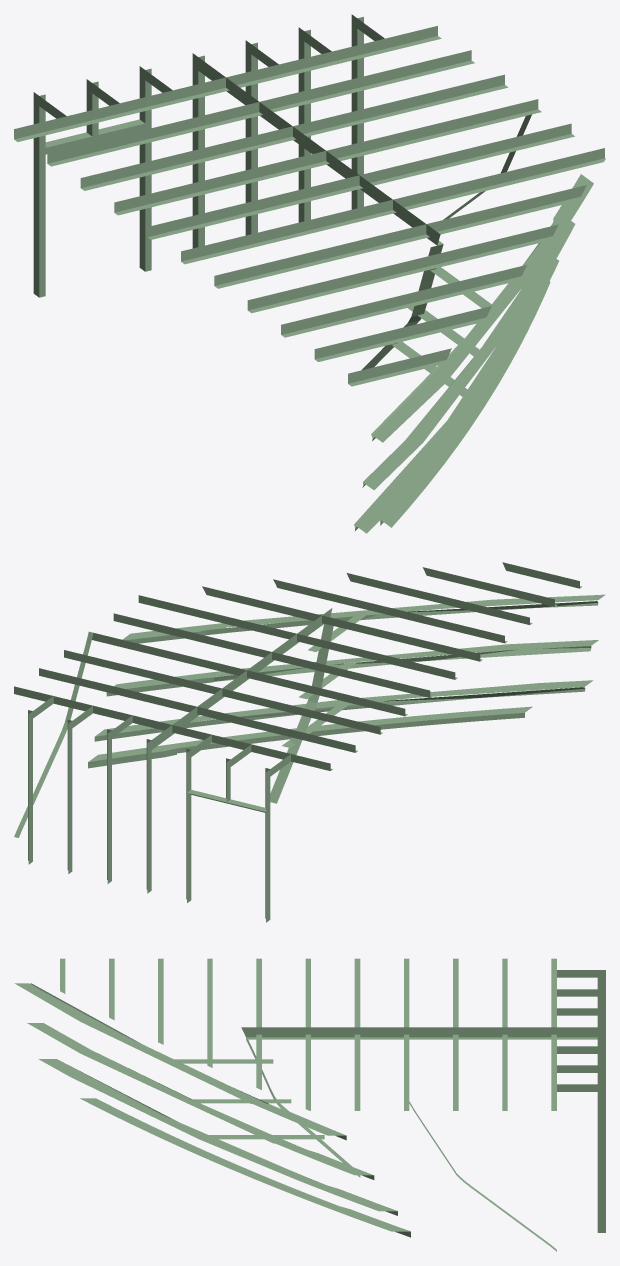
Rendered from FWD_ELECTRICAL_PANEL_ROOM.glb.
3 views of the same model, one above another, from view 1: azimuth 30°, elevation 25°; view 2: azimuth 150°, elevation 25°; view 3: azimuth 270°, elevation 25° (orthographic). The views are drawn at different scales.
Parts seen in each view (by area): view 1: ST_OuterShellxFPTSxL56xWeb_010004-IA_307x100x10x12_NVA32_199, ST_OuterShellxFPTSxL57xWeb_009004-IA_307x100x10x12_NVA32_199, ST_OuterShellxFPTSxL58xWeb_008003-IA_307x100x10x12_NVA32_199, ST_OuterShellxFPTSxL55F1xWeb_004001-IA_307x100x10x12_NVA32_1, ST_TopRoomxFPTSxWeb_002001-IA_152.4x101.2x9.5x9.5_NVA36_2014, ST_TopRoomxFPTSxWeb_016001-IA_152.4x101.2x9.5x9.5_NVA36_2014, ST_TopRoomxFPTSxWeb_017001-IA_152.4x101.2x9.5x9.5_NVA36_2014, ST_TopRoomxFPTSxWeb_018001-IA_152.4x101.2x9.5x9.5_NVA36_2014, ST_TopRoomxFPTSxWeb_020001-IA_152.4x101.2x9.5x9.5_NVA36_2014, ST_TopRoomxFPTSxWeb_021001-IA_152.4x101.2x9.5x9.5_NVA36_2014, ST_TopRoomxFPTSxWeb_022001-IA_152.4x101.2x9.5x9.5_NVA36_2014, ST_TopRoomxFPTSxWeb_019001-IA_152.4x101.2x9.5x9.5_NVA36_2014 (+34 smaller); view 2: ST_OuterShellxFPTSxL56xWeb_010004-IA_307x100x10x12_NVA32_199, ST_OuterShellxFPTSxL57xWeb_009004-IA_307x100x10x12_NVA32_199, ST_OuterShellxFPTSxL57xFLG_008004-IA_307x100x10x12_NVA32_199, ST_OuterShellxFPTSxL58xWeb_008003-IA_307x100x10x12_NVA32_199, ST_OuterShellxFPTSxL56xFLG_010004-IA_307x100x10x12_NVA32_199, ST_OuterShellxFPTSxL55F1xWeb_004001-IA_307x100x10x12_NVA32_1, ST_OuterShellxFPTSxL55F1xFLG_003001-IA_307x100x10x12_NVA32_1, ST_OuterShellxFPTSxL58xFLG_009003-IA_307x100x10x12_NVA32_199, ST_TopRoomxFPTSxWeb_020001-IA_152.4x101.2x9.5x9.5_NVA36_2014, ST_TopRoomxFPTSxWeb_016001-IA_152.4x101.2x9.5x9.5_NVA36_2014, ST_TopRoomxFPTSxWeb_022001-IA_152.4x101.2x9.5x9.5_NVA36_2014, ST_TopRoomxFPTSxWeb_017001-IA_152.4x101.2x9.5x9.5_NVA36_2014 (+33 smaller); view 3: ST_OuterShellxFPTSxL56xWeb_010004-IA_307x100x10x12_NVA32_199, ST_OuterShellxFPTSxL58xWeb_008003-IA_307x100x10x12_NVA32_199, ST_OuterShellxFPTSxL57xWeb_009004-IA_307x100x10x12_NVA32_199, ST_TopRoomxFPTSxWeb_014001-IA_203.2x101.6x14.29x14.29_NVA36_, ST_OuterShellxFPTSxL55F1xWeb_004001-IA_307x100x10x12_NVA32_1, ST_TopRoomxFPTSxWeb_013001-IA_203.2x101.6x14.29x14.29_NVA36_, ST_L09SectionxFPTSxWeb_023002-IA_152.4x101.6x14.29x14.29_NVA, ST_OuterShellxFPTSxL56xWeb_011001-IA_358.5x125x11x13.5_NVA32, ST_OuterShellxFPTSxL55F1xWeb_002001-IA_362x125x10x17_NVA32_1, ST_OuterShellxFPTSxL57xWeb_010001-IA_358x100x10x13_NVA32_199, ST_OuterShellxFPTSxL58xWeb_009001-IA_357x100x10x12_NVA32_199, ST_TopRoomxFPTSxFLG_013001-IA_203.2x101.6x14.29x14.29_NVA36_ (+13 smaller).
Part boxes in pixels (bbox=[...]): ST_OuterShellxFPTSxL56xWeb_010004-IA_307x100x10x12_NVA32_199: bbox=[354, 317, 527, 533]; ST_OuterShellxFPTSxL57xWeb_009004-IA_307x100x10x12_NVA32_199: bbox=[363, 277, 541, 489]; ST_OuterShellxFPTSxL58xWeb_008003-IA_307x100x10x12_NVA32_199: bbox=[372, 238, 557, 442]; ST_OuterShellxFPTSxL55F1xWeb_004001-IA_307x100x10x12_NVA32_1: bbox=[381, 343, 519, 527]; ST_TopRoomxFPTSxWeb_002001-IA_152.4x101.2x9.5x9.5_NVA36_2014: bbox=[47, 102, 259, 163]; ST_TopRoomxFPTSxWeb_016001-IA_152.4x101.2x9.5x9.5_NVA36_2014: bbox=[80, 126, 292, 187]; ST_TopRoomxFPTSxWeb_017001-IA_152.4x101.2x9.5x9.5_NVA36_2014: bbox=[114, 151, 326, 212]; ST_TopRoomxFPTSxWeb_018001-IA_152.4x101.2x9.5x9.5_NVA36_2014: bbox=[147, 175, 359, 236]; ST_TopRoomxFPTSxWeb_020001-IA_152.4x101.2x9.5x9.5_NVA36_2014: bbox=[214, 224, 426, 285]; ST_TopRoomxFPTSxWeb_021001-IA_152.4x101.2x9.5x9.5_NVA36_2014: bbox=[247, 248, 459, 310]; ST_TopRoomxFPTSxWeb_022001-IA_152.4x101.2x9.5x9.5_NVA36_2014: bbox=[281, 273, 493, 334]; ST_TopRoomxFPTSxWeb_019001-IA_152.4x101.2x9.5x9.5_NVA36_2014: bbox=[181, 199, 392, 261]; ST_OuterShellxFPTSxL56xWeb_010004-IA_307x100x10x12_NVA32_199: bbox=[204, 680, 593, 720]; ST_OuterShellxFPTSxL57xWeb_009004-IA_307x100x10x12_NVA32_199: bbox=[214, 640, 598, 676]; ST_OuterShellxFPTSxL57xFLG_008004-IA_307x100x10x12_NVA32_199: bbox=[213, 646, 591, 681]; ST_OuterShellxFPTSxL58xWeb_008003-IA_307x100x10x12_NVA32_199: bbox=[227, 594, 605, 627]; ST_OuterShellxFPTSxL56xFLG_010004-IA_307x100x10x12_NVA32_199: bbox=[203, 687, 585, 725]; ST_OuterShellxFPTSxL55F1xWeb_004001-IA_307x100x10x12_NVA32_1: bbox=[210, 706, 532, 743]; ST_OuterShellxFPTSxL55F1xFLG_003001-IA_307x100x10x12_NVA32_1: bbox=[201, 712, 524, 750]; ST_OuterShellxFPTSxL58xFLG_009003-IA_307x100x10x12_NVA32_199: bbox=[225, 601, 598, 632]; ST_TopRoomxFPTSxWeb_020001-IA_152.4x101.2x9.5x9.5_NVA36_2014: bbox=[322, 615, 480, 661]; ST_TopRoomxFPTSxWeb_016001-IA_152.4x101.2x9.5x9.5_NVA36_2014: bbox=[222, 688, 380, 734]; ST_TopRoomxFPTSxWeb_022001-IA_152.4x101.2x9.5x9.5_NVA36_2014: bbox=[371, 579, 529, 624]; ST_TopRoomxFPTSxWeb_017001-IA_152.4x101.2x9.5x9.5_NVA36_2014: bbox=[247, 670, 405, 716]; ST_OuterShellxFPTSxL56xWeb_010004-IA_307x100x10x12_NVA32_199: bbox=[38, 1059, 310, 1179]; ST_OuterShellxFPTSxL58xWeb_008003-IA_307x100x10x12_NVA32_199: bbox=[14, 983, 266, 1103]; ST_OuterShellxFPTSxL57xWeb_009004-IA_307x100x10x12_NVA32_199: bbox=[27, 1023, 291, 1143]; ST_TopRoomxFPTSxWeb_014001-IA_203.2x101.6x14.29x14.29_NVA36_: bbox=[409, 1027, 597, 1037]; ST_OuterShellxFPTSxL55F1xWeb_004001-IA_307x100x10x12_NVA32_1: bbox=[80, 1098, 322, 1199]; ST_TopRoomxFPTSxWeb_013001-IA_203.2x101.6x14.29x14.29_NVA36_: bbox=[241, 1027, 409, 1037]; ST_L09SectionxFPTSxWeb_023002-IA_152.4x101.6x14.29x14.29_NVA: bbox=[597, 1136, 605, 1232]; ST_OuterShellxFPTSxL56xWeb_011001-IA_358.5x125x11x13.5_NVA32: bbox=[312, 1185, 397, 1211]; ST_OuterShellxFPTSxL55F1xWeb_002001-IA_362x125x10x17_NVA32_1: bbox=[323, 1206, 410, 1231]; ST_OuterShellxFPTSxL57xWeb_010001-IA_358x100x10x13_NVA32_199: bbox=[291, 1150, 373, 1175]; ST_OuterShellxFPTSxL58xWeb_009001-IA_357x100x10x12_NVA32_199: bbox=[267, 1110, 346, 1135]; ST_TopRoomxFPTSxFLG_013001-IA_203.2x101.6x14.29x14.29_NVA36_: bbox=[409, 1037, 597, 1039].
Size of the model in its own units: 6.6 by 3 by 10.84.
